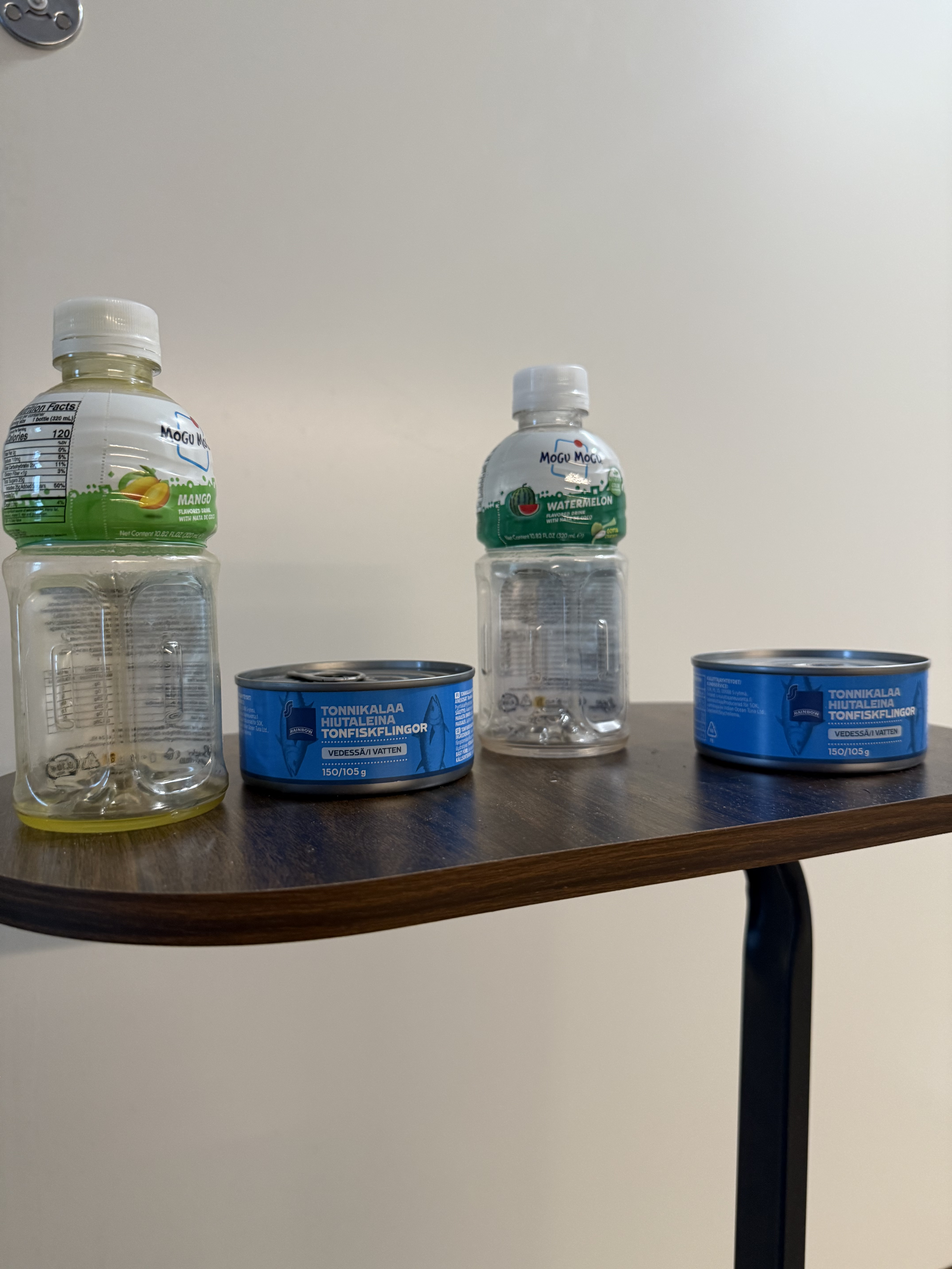Konservburk: (691, 649, 935, 777), (237, 667, 474, 788)
Pantburk: (7, 292, 229, 825), (476, 363, 634, 758)
